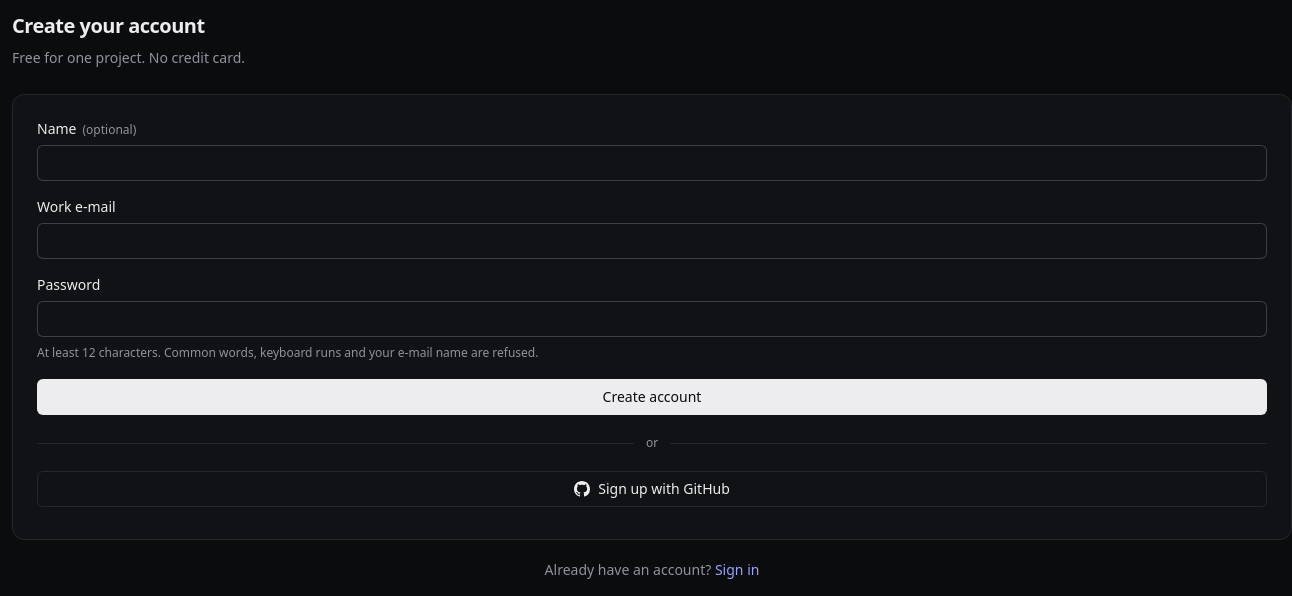
SignupForm › asks the user to check their inbox after a 202
Type "dev@acme.io" into the field labelled "Work e-mail".
click(652, 241); type("dev@acme.io")  # box [37,223,1267,259]
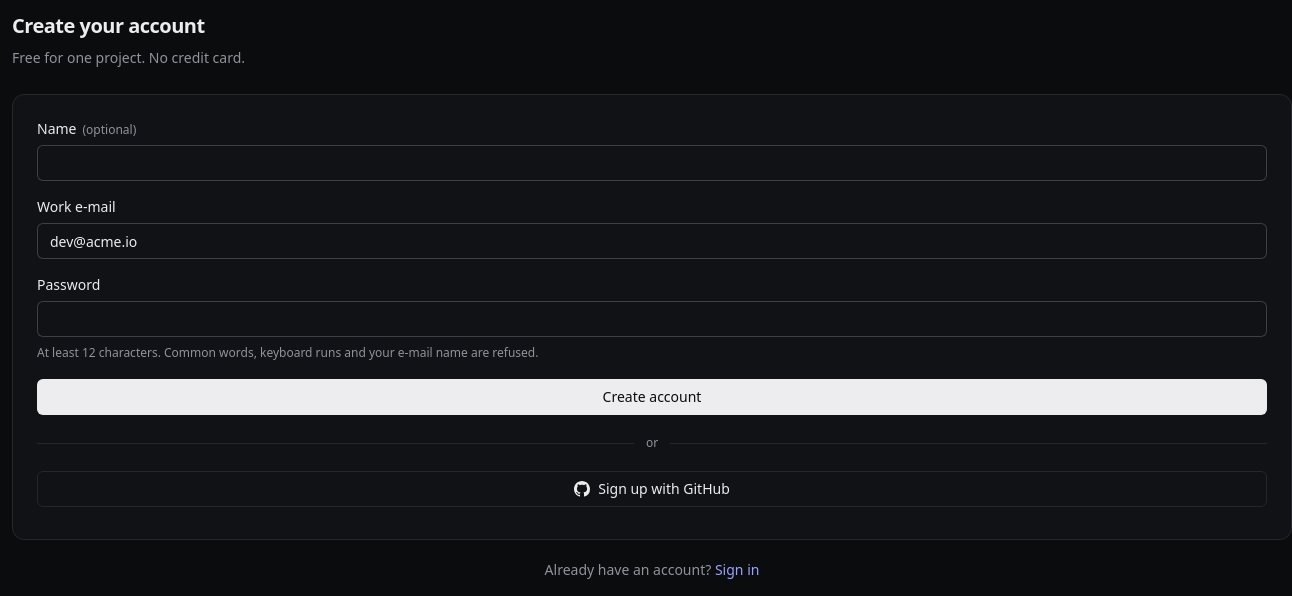
Type "correct horse battery staple" into the password field labelled "Password".
click(652, 319); type("correct horse battery staple")  # box [37,301,1267,337]
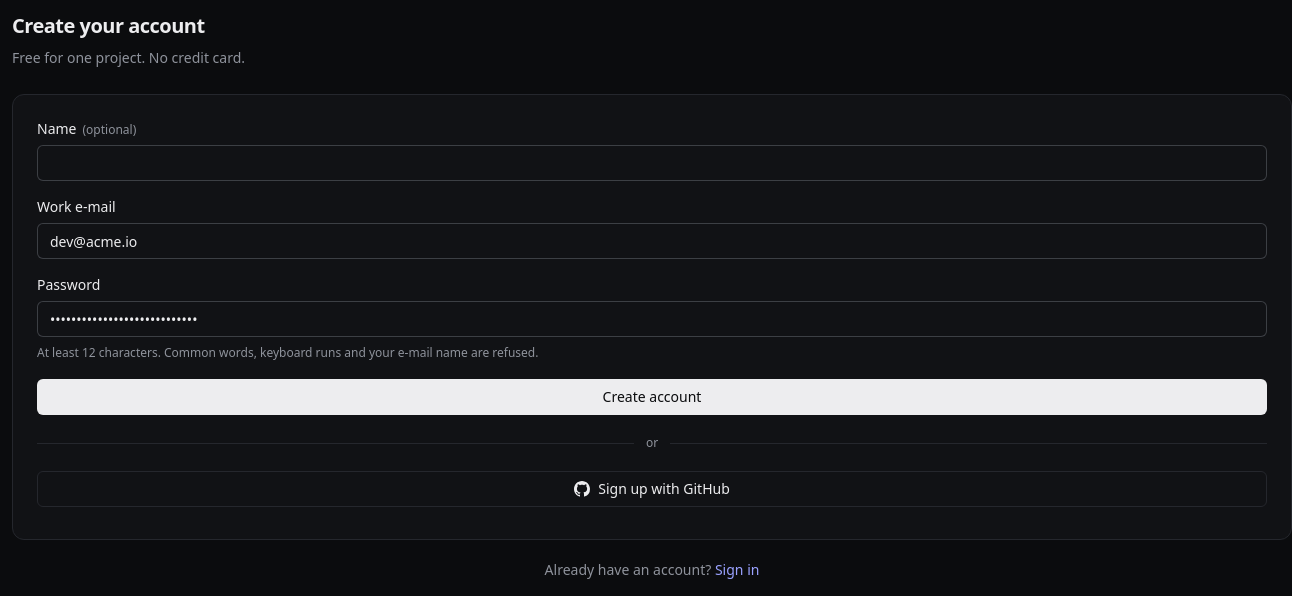
Submit the form named "Create your account", box [37,119,1267,415]
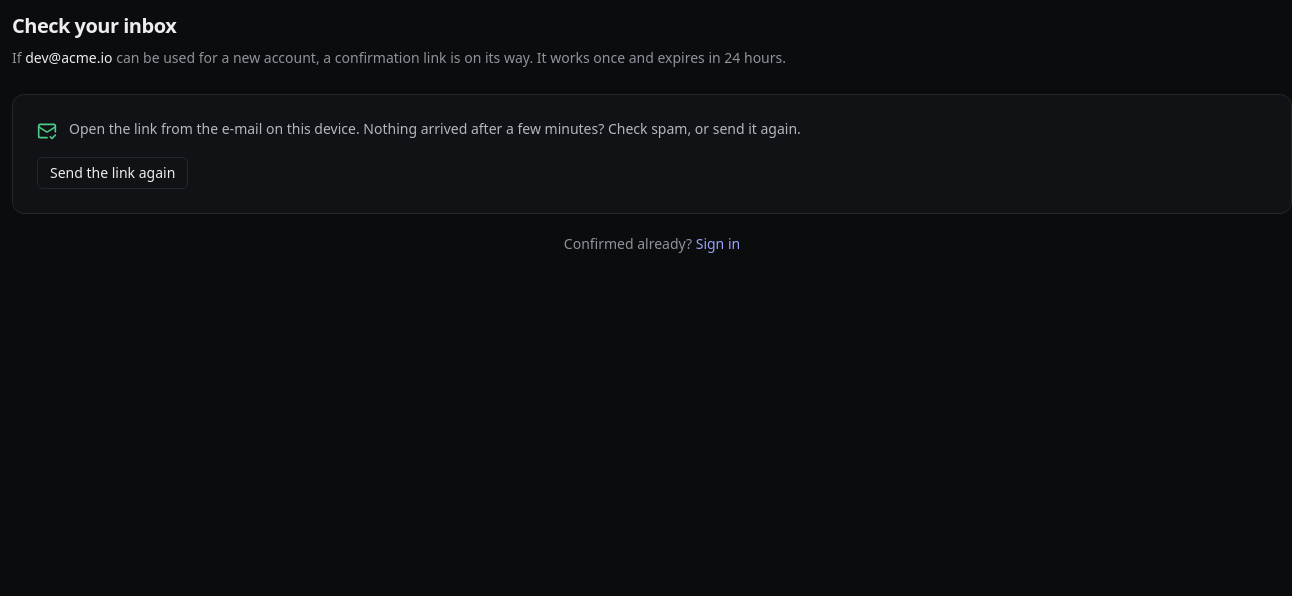
Expected: the heading "Check your inbox" is shown, [12,12,176,39]
